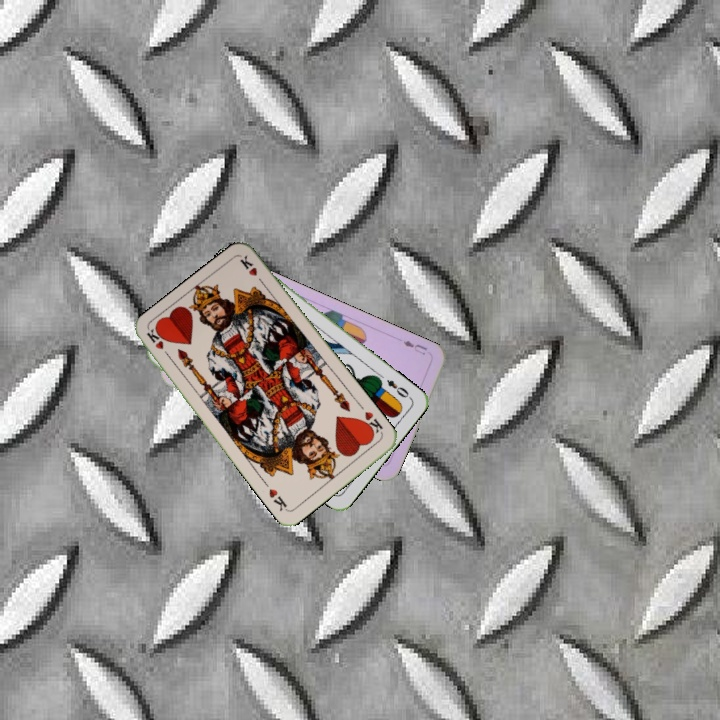EO: (382, 375, 414, 401)
EU: (399, 336, 430, 358)
HK: (143, 325, 174, 362), (357, 407, 385, 438)
